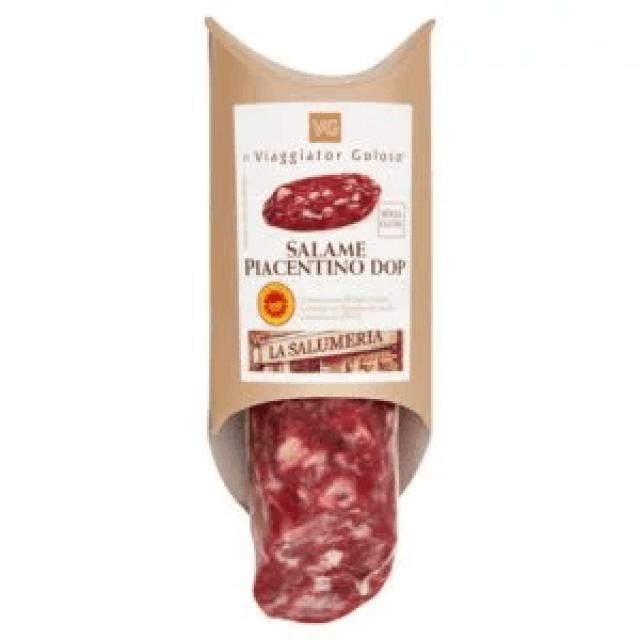Ham: (207, 17, 437, 625)
